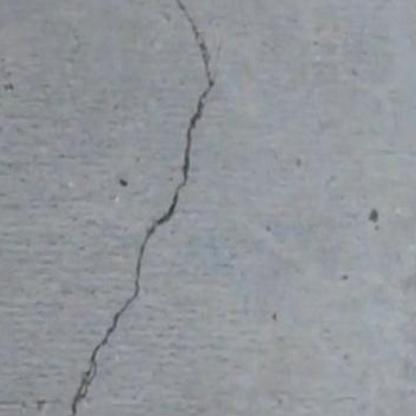Cracks: (52, 0, 221, 416)
